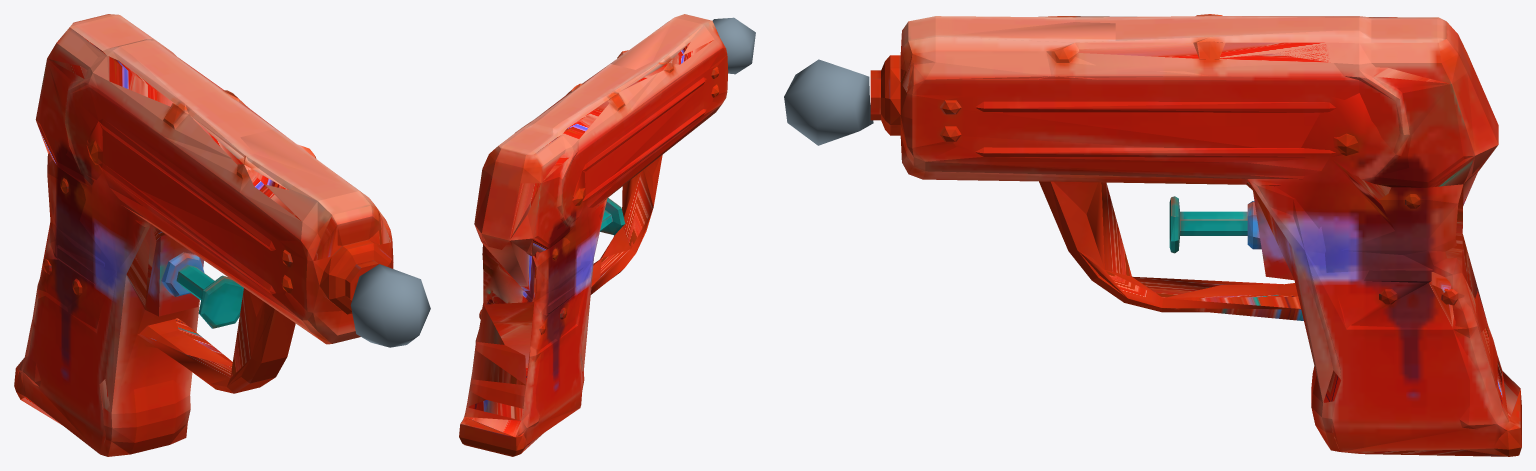
File: item_water_gun_red.glb
3 renders of one model, left to right at view 1: azimuth 30°, elevation 25°; view 2: azimuth 150°, elevation 25°; view 3: azimuth 270°, elevation 25°, orthographic. The views are drawn at different scales.
Parts seen in each view (by area): view 1: WaterPistol, WaterDrip; view 2: WaterPistol, WaterDrip; view 3: WaterPistol, WaterDrip.
Boxes of the visible parts, x1,y1,x2,y2 form: WaterPistol: (14, 14, 393, 456); WaterDrip: (350, 264, 430, 347); WaterPistol: (459, 14, 728, 456); WaterDrip: (712, 17, 755, 74); WaterPistol: (870, 14, 1521, 456); WaterDrip: (784, 59, 873, 145).
Bounding box in the file's own units: 0.0466 × 0.1824 × 0.2941.
Materials: 2 (1 with a texture image).
